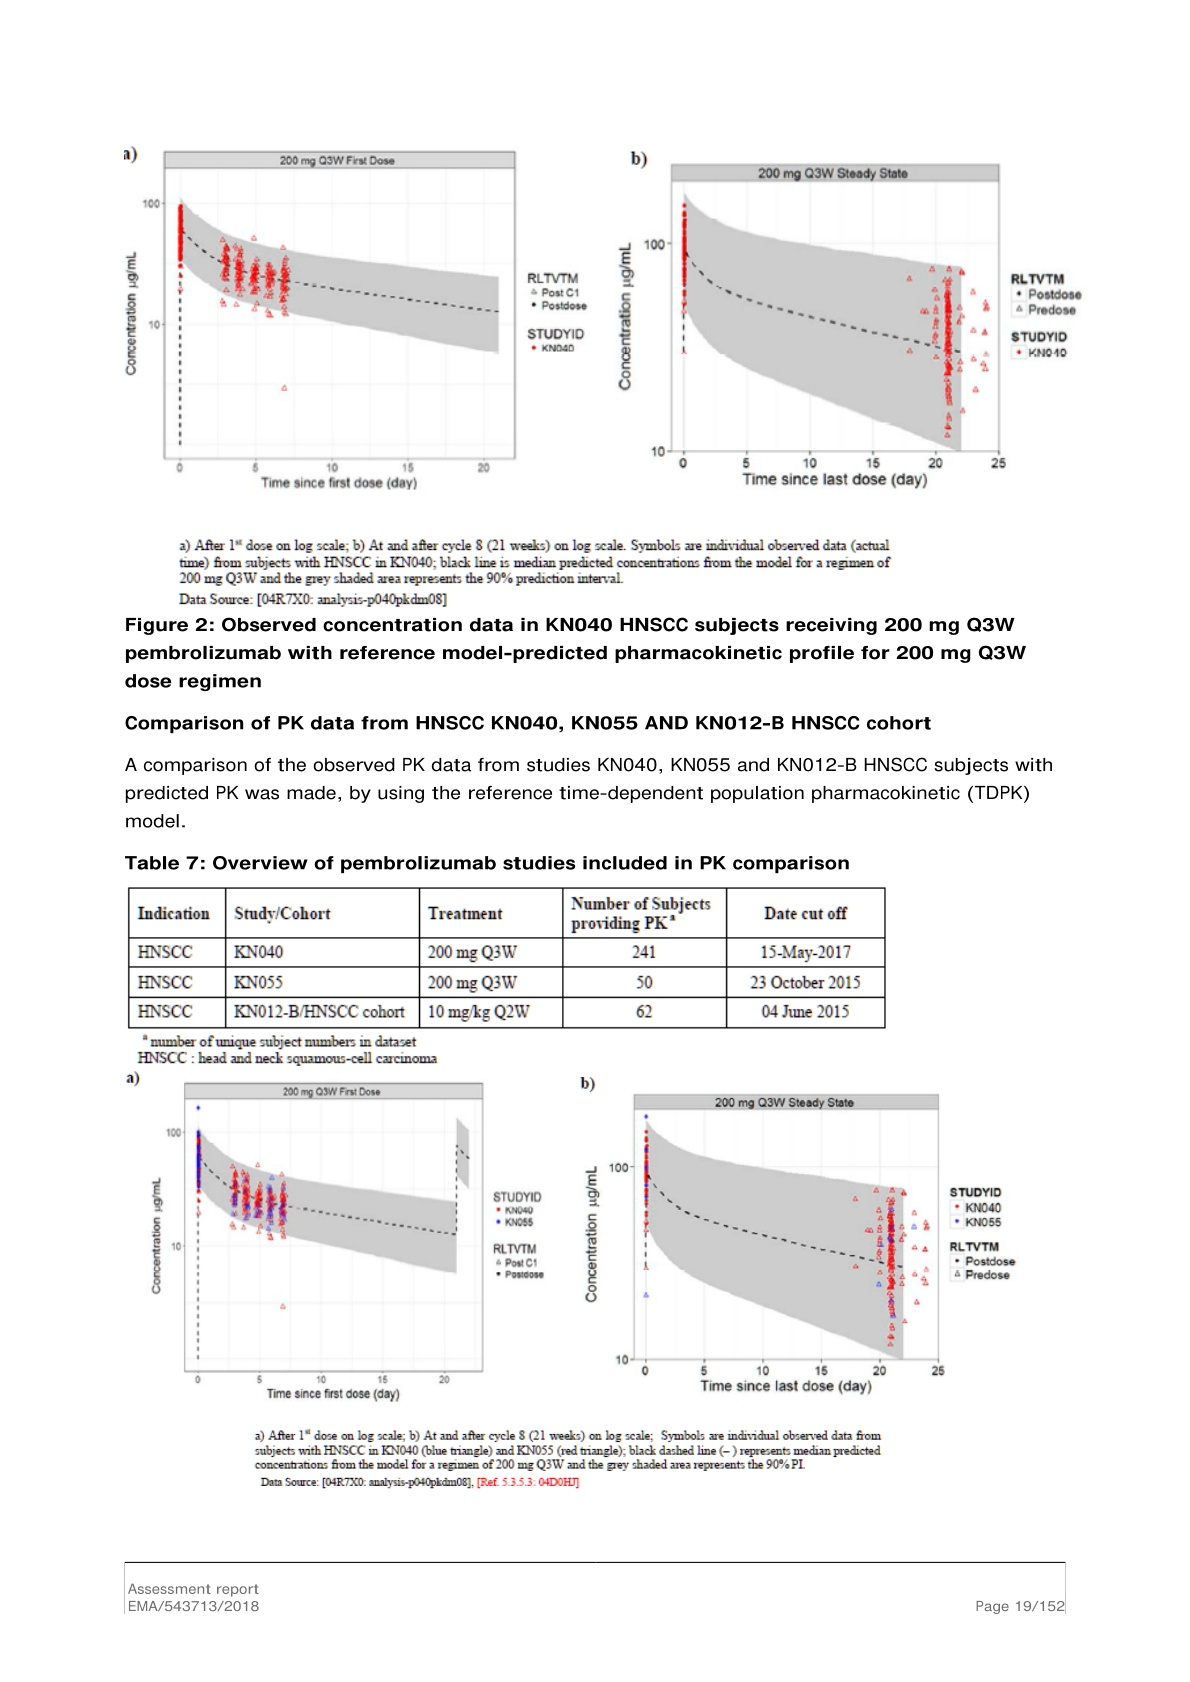full_lined: (127, 887, 886, 1029)
